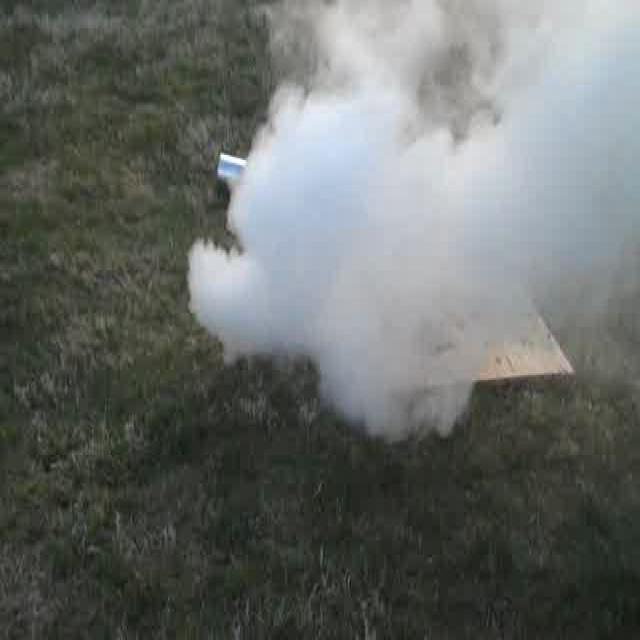Smoke: (214, 9, 636, 413)
